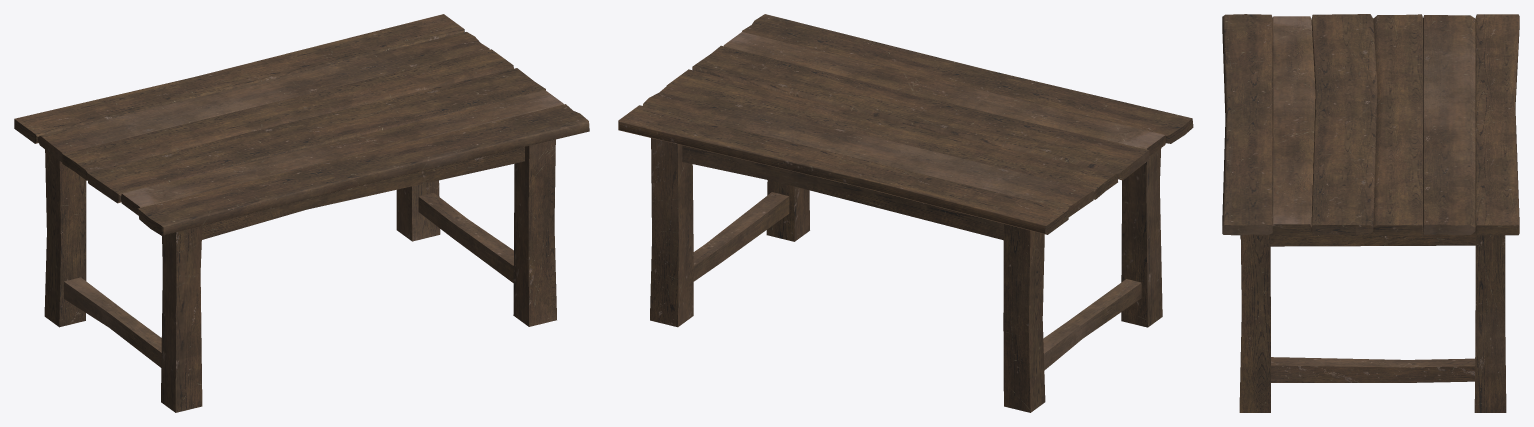
Rendered from SM_Table_01.fbx.
3 views of the same model, side by side, from view 1: azimuth 30°, elevation 25°; view 2: azimuth 150°, elevation 25°; view 3: azimuth 270°, elevation 25° (orthographic).
Parts seen in each view (by area): view 1: SM_Table_01_LOD0; view 2: SM_Table_01_LOD0; view 3: SM_Table_01_LOD0.
Boxes of the visible parts, left/top/right/bottom form: SM_Table_01_LOD0: left=14, top=14, right=589, bottom=412; SM_Table_01_LOD0: left=618, top=14, right=1193, bottom=412; SM_Table_01_LOD0: left=1222, top=14, right=1519, bottom=412.
Size of what is drawn, in the model's own units: 172 by 75.72 by 102.
